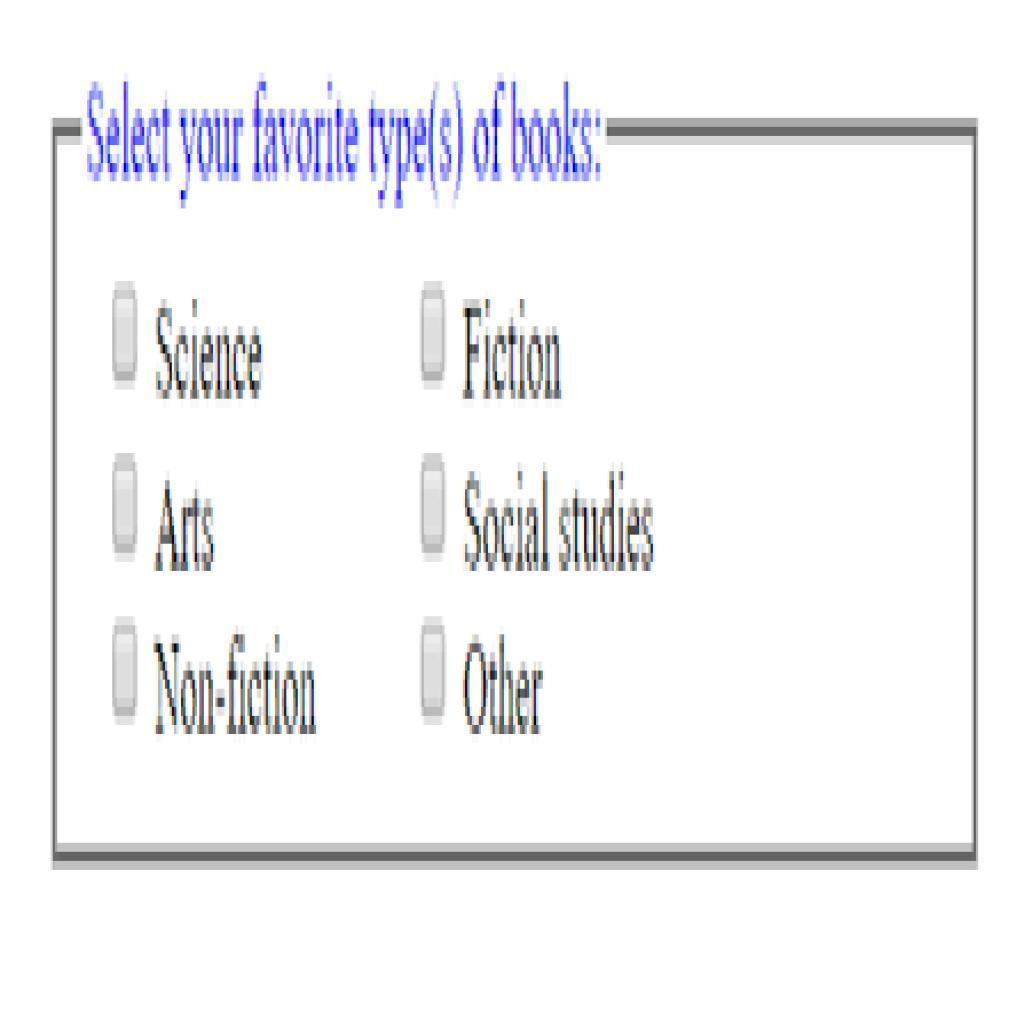checkbox: (112, 453, 142, 566), (111, 285, 142, 393), (420, 454, 450, 565), (112, 616, 141, 730), (420, 619, 450, 729), (421, 281, 450, 390)
label: (464, 460, 660, 580), (152, 625, 325, 744), (152, 295, 271, 408), (458, 294, 569, 405), (460, 631, 551, 741), (157, 471, 224, 583)
